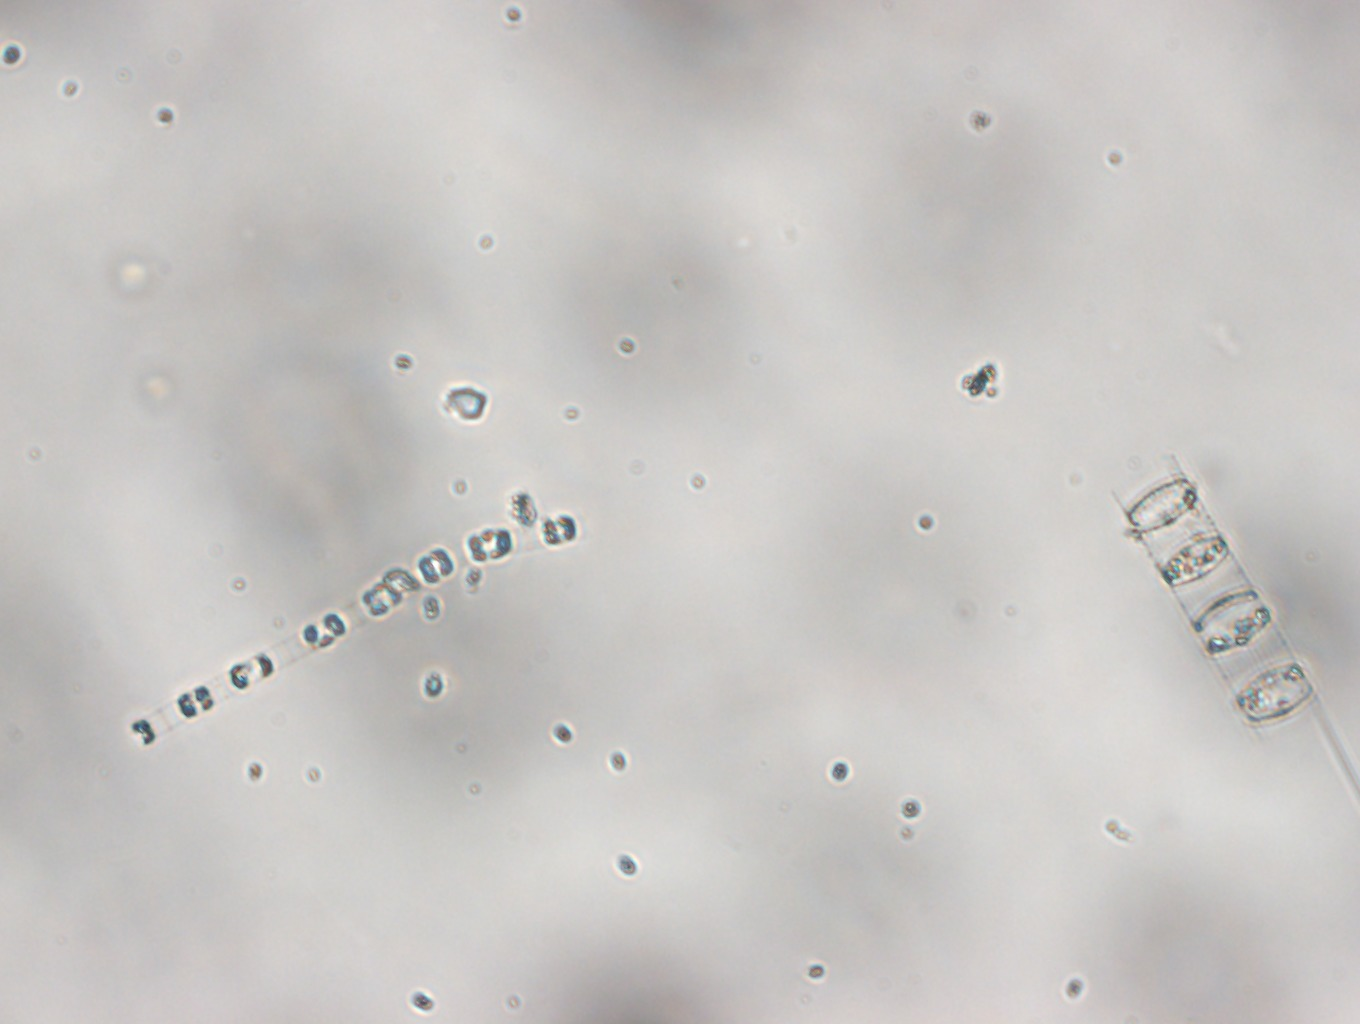skeletonema: (103, 508, 596, 746), (1108, 456, 1337, 774)
